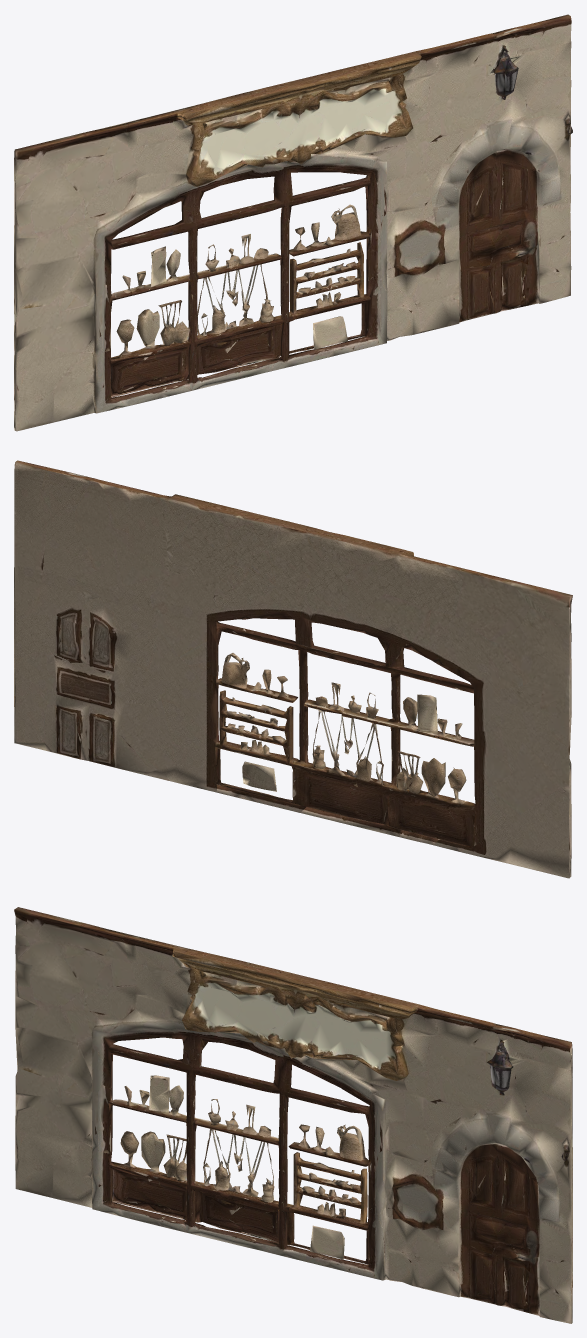
File: goldschmied.glb
The picture shows the model from 3 angles, top to bottom: view 1: azimuth 30°, elevation 25°; view 2: azimuth 150°, elevation 25°; view 3: azimuth 330°, elevation 25°; orthographic projection.
Size of the model in its own units: 1.9 by 0.9245 by 0.0692.
Materials: 1 (1 with a texture image).
